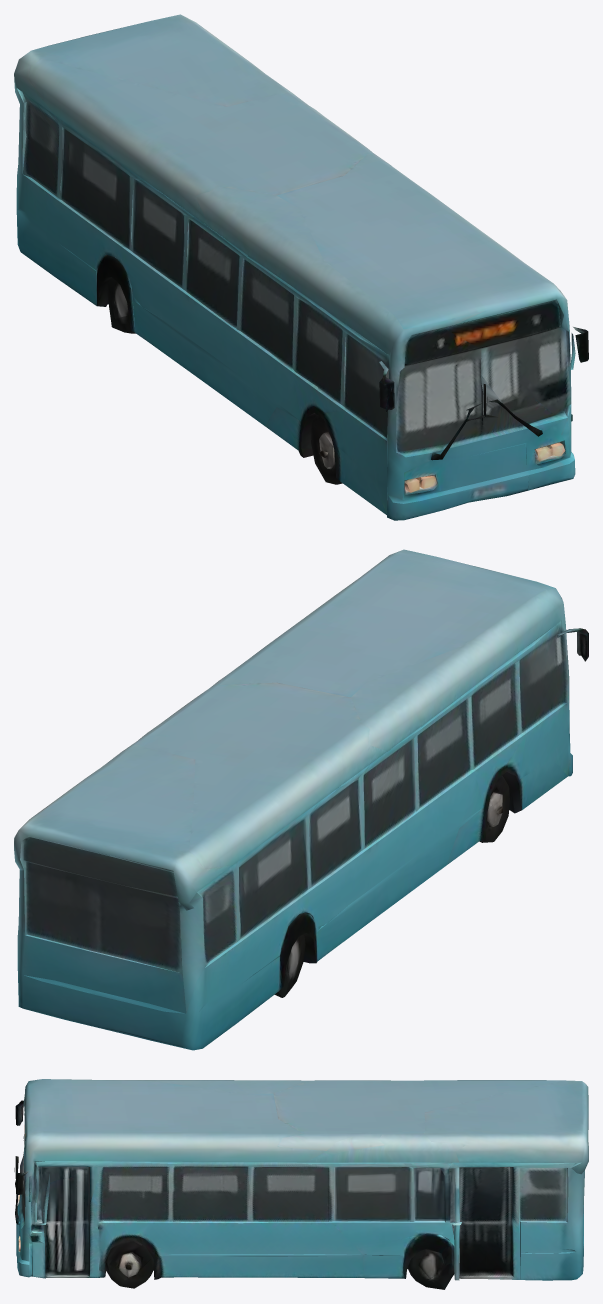
The model's file is m2CityBus.glb.
The picture shows the model from 3 angles, top to bottom: view 1: azimuth 30°, elevation 25°; view 2: azimuth 150°, elevation 25°; view 3: azimuth 270°, elevation 25°; orthographic projection. The views are drawn at different scales.
Visible parts, largest first — view 1: model; view 2: model; view 3: model.
Part boxes in pixels (x1=…): model: x1=14, y1=14, x2=588, y2=520; model: x1=14, y1=549, x2=588, y2=1050; model: x1=14, y1=1079, x2=588, y2=1289.
Bounding box in the file's own units: 0.5829 × 0.5641 × 1.91.
Materials: 1 (1 with a texture image).
